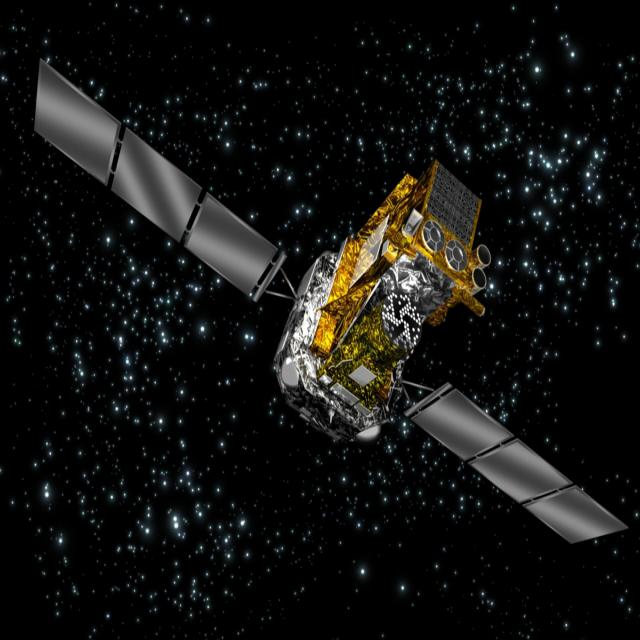medium_debris: (23, 36, 633, 585)
